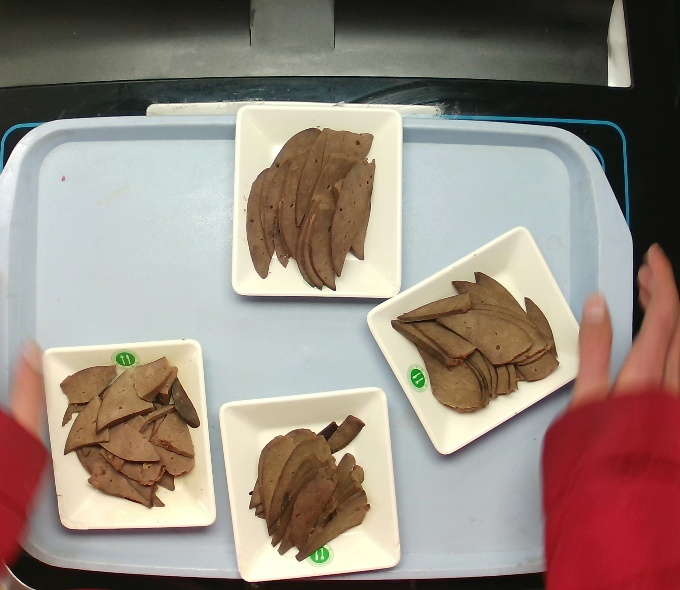wcq-ZhuGan: (386, 264, 565, 419), (54, 352, 206, 514), (242, 119, 381, 296), (244, 411, 376, 566)
